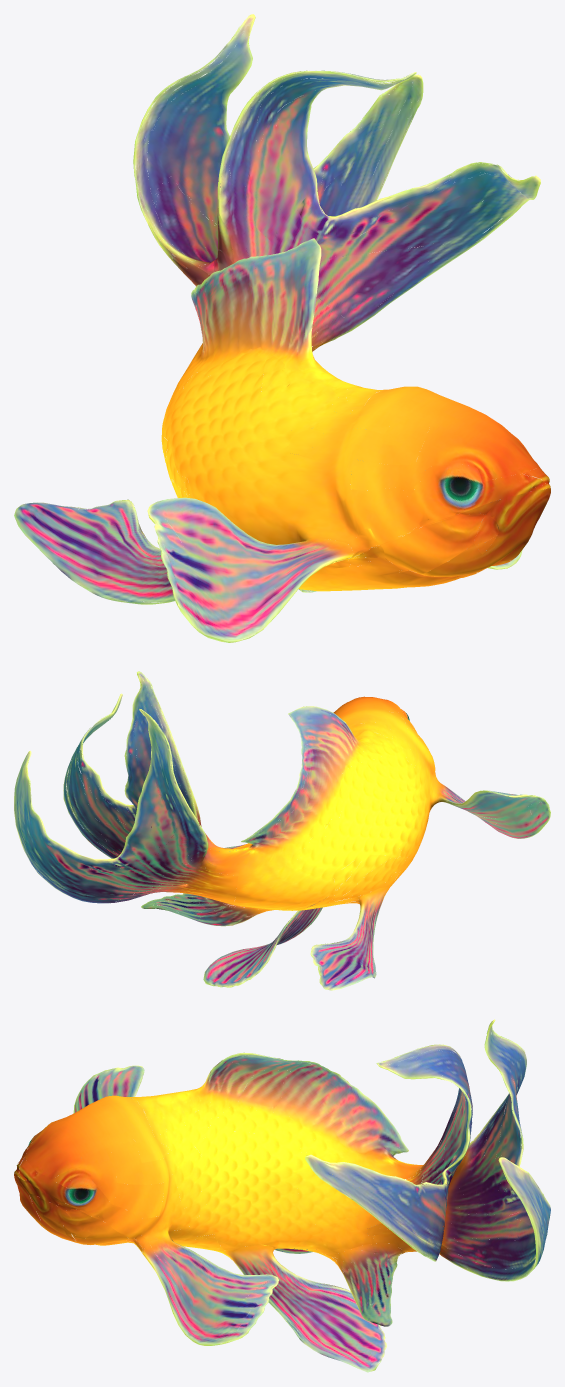
File: fish_20k.glb
3 views of the same model, one above another, from view 1: azimuth 30°, elevation 25°; view 2: azimuth 150°, elevation 25°; view 3: azimuth 270°, elevation 25° (orthographic). The views are drawn at different scales.
Parts seen in each view (by area): view 1: G_Fish67, G_Fish67_G_Fish_tex_0.001, G_Fish67_G_Fish_tex_0.002, G_Fish67_G_Fish_tex_0.003; view 2: G_Fish67, G_Fish67_G_Fish_tex_0.001, G_Fish67_G_Fish_tex_0.002, G_Fish67_G_Fish_tex_0.003; view 3: G_Fish67_G_Fish_tex_0.002, G_Fish67_G_Fish_tex_0.001, G_Fish67, G_Fish67_G_Fish_tex_0.003.
Boxes of the visible parts, x1,y1,x2,y2 form: G_Fish67: [133, 15, 550, 591]; G_Fish67_G_Fish_tex_0.001: [14, 14, 550, 642]; G_Fish67_G_Fish_tex_0.002: [77, 15, 549, 640]; G_Fish67_G_Fish_tex_0.003: [195, 162, 540, 591]; G_Fish67: [107, 673, 438, 910]; G_Fish67_G_Fish_tex_0.001: [14, 694, 550, 990]; G_Fish67_G_Fish_tex_0.002: [27, 671, 550, 987]; G_Fish67_G_Fish_tex_0.003: [63, 693, 336, 984]; G_Fish67_G_Fish_tex_0.002: [16, 1023, 543, 1372]; G_Fish67_G_Fish_tex_0.001: [15, 1019, 550, 1326]; G_Fish67: [14, 1021, 526, 1278]; G_Fish67_G_Fish_tex_0.003: [53, 1047, 472, 1364].
Bounding box in the file's own units: 6.41 × 5.43 × 7.37.
1 material, 1 textured.
